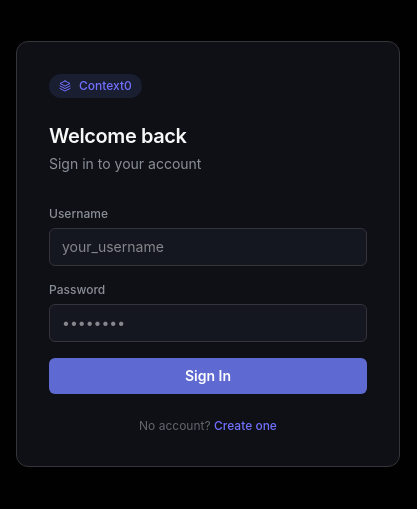
it: Login › shows an error message on failed login
Type "bad" into the field with placeholder "your_username" at [208, 247], box [49,228,367,266]
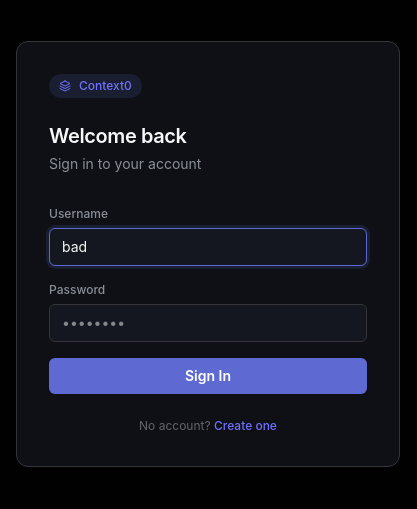
Type "Bad00000" into the password field with placeholder "••••••••" at [208, 323], box [49,304,367,342]
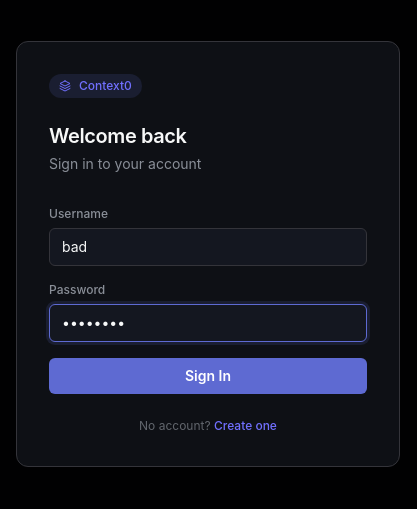
Click the button "Sign In" at [208, 376], box [49,358,367,394]
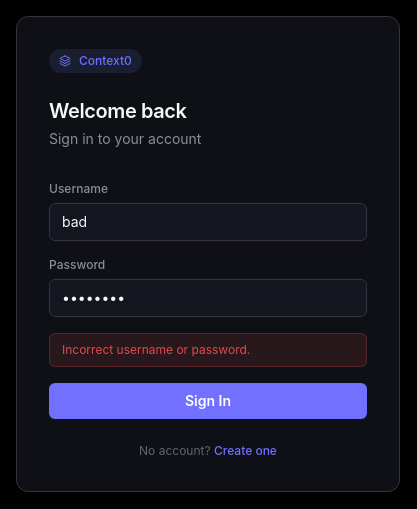
Expected: the text "Incorrect username or password." is shown, [49,333,367,367]
